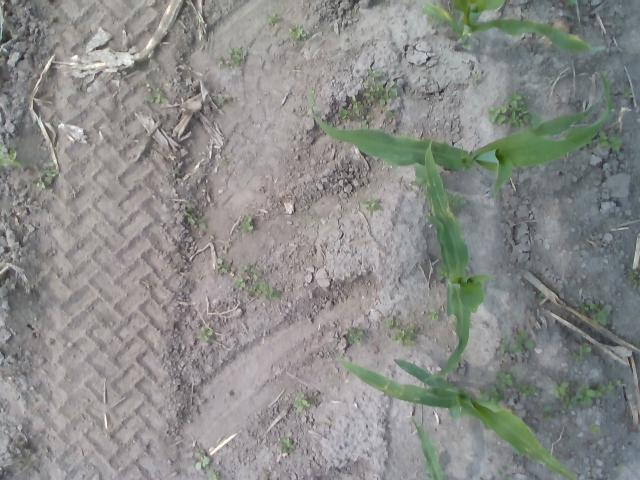Maize: (307, 68, 613, 200), (326, 340, 584, 480), (414, 142, 498, 383), (420, 0, 604, 56), (410, 416, 449, 480)
Weeds: (487, 92, 531, 129), (363, 68, 398, 106), (571, 382, 614, 408), (578, 299, 612, 326), (499, 330, 534, 354), (36, 160, 59, 190), (0, 140, 22, 170), (477, 382, 504, 406), (184, 203, 208, 229), (217, 46, 244, 69), (337, 96, 365, 118), (552, 380, 571, 410), (596, 130, 622, 151), (251, 282, 281, 300), (144, 82, 168, 104), (392, 328, 420, 346), (444, 191, 466, 211), (359, 197, 382, 216), (493, 370, 515, 388), (571, 342, 592, 360), (190, 450, 209, 469), (346, 326, 364, 346), (286, 24, 308, 40), (292, 392, 310, 411), (278, 436, 296, 454), (516, 382, 538, 396), (236, 216, 254, 232), (194, 327, 213, 342), (384, 316, 400, 329), (497, 467, 513, 480), (426, 15, 444, 26), (531, 110, 545, 124), (435, 266, 449, 280), (542, 404, 554, 420), (217, 257, 229, 273), (266, 12, 282, 23), (426, 308, 439, 321), (627, 268, 640, 280), (622, 87, 634, 97), (588, 424, 600, 434), (234, 277, 246, 287), (248, 269, 259, 279), (410, 179, 422, 188), (207, 471, 219, 480), (239, 262, 249, 270), (384, 110, 396, 116), (564, 0, 576, 6), (472, 74, 478, 85), (538, 292, 546, 300), (362, 120, 369, 129), (633, 280, 640, 289), (616, 379, 623, 386), (218, 96, 225, 103), (173, 170, 181, 176)
